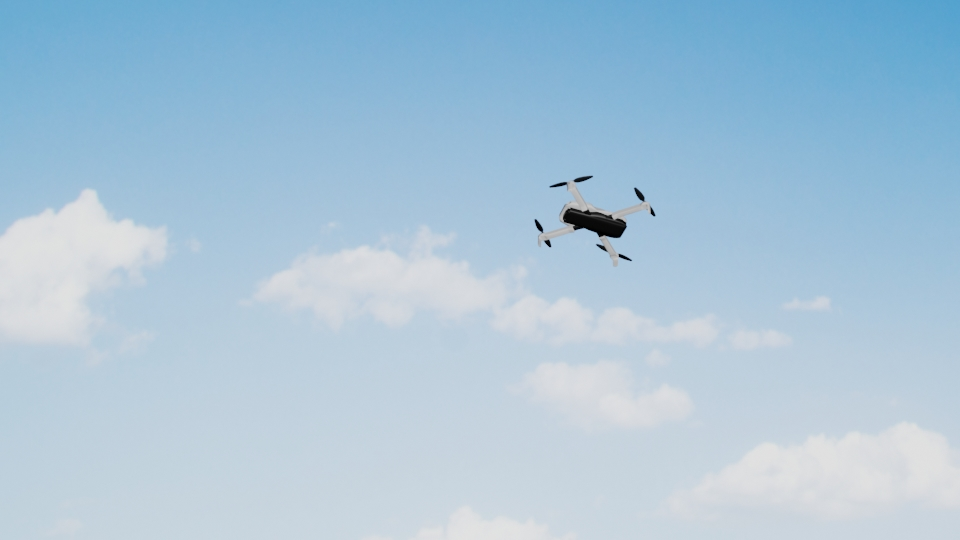drone: (531, 173, 654, 270)
